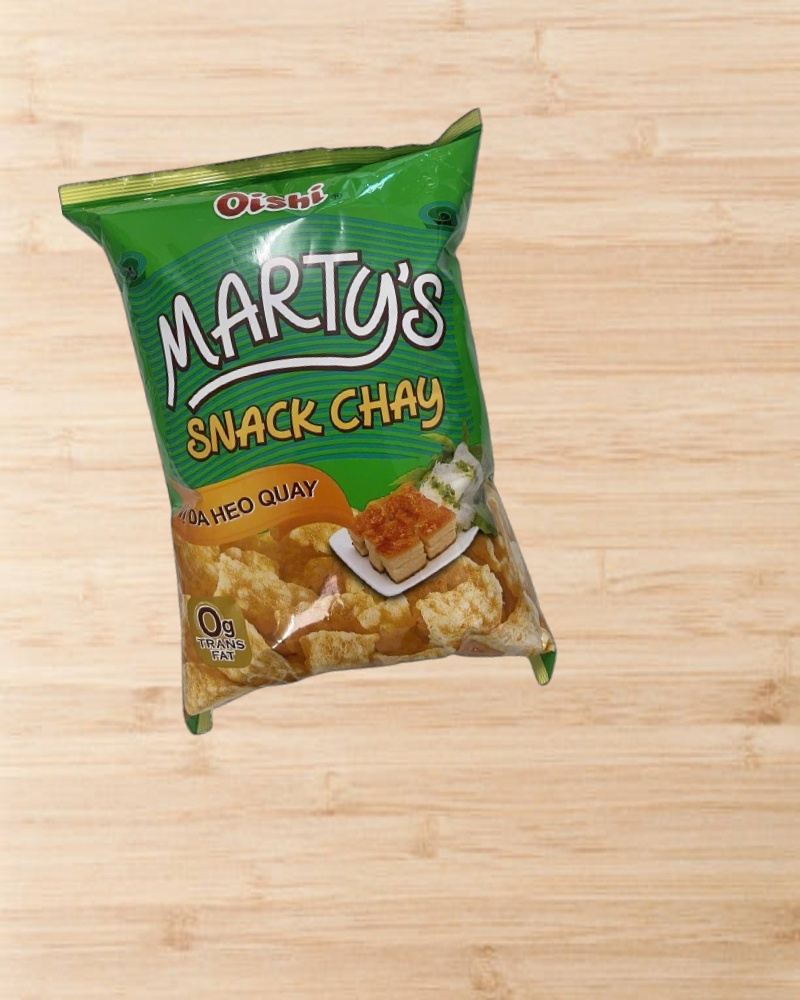Snack chay: (58, 108, 581, 754)
